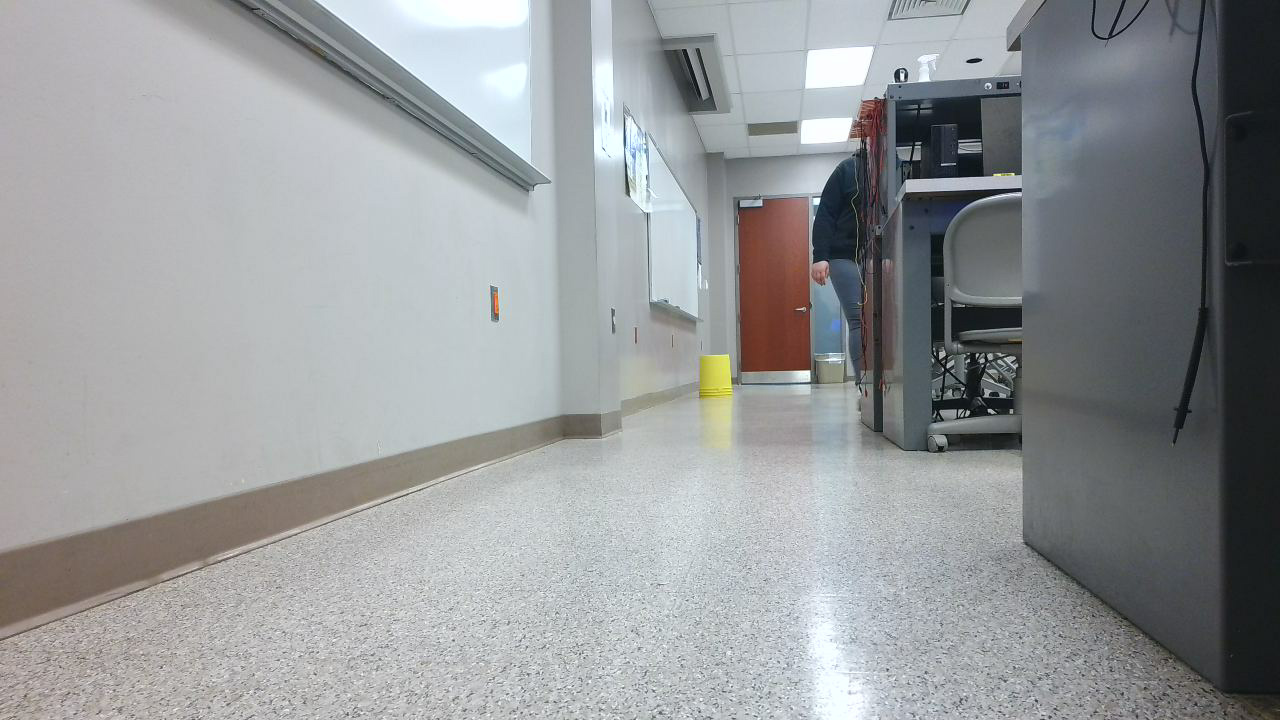yellow_bucket: (699, 356, 742, 409)
